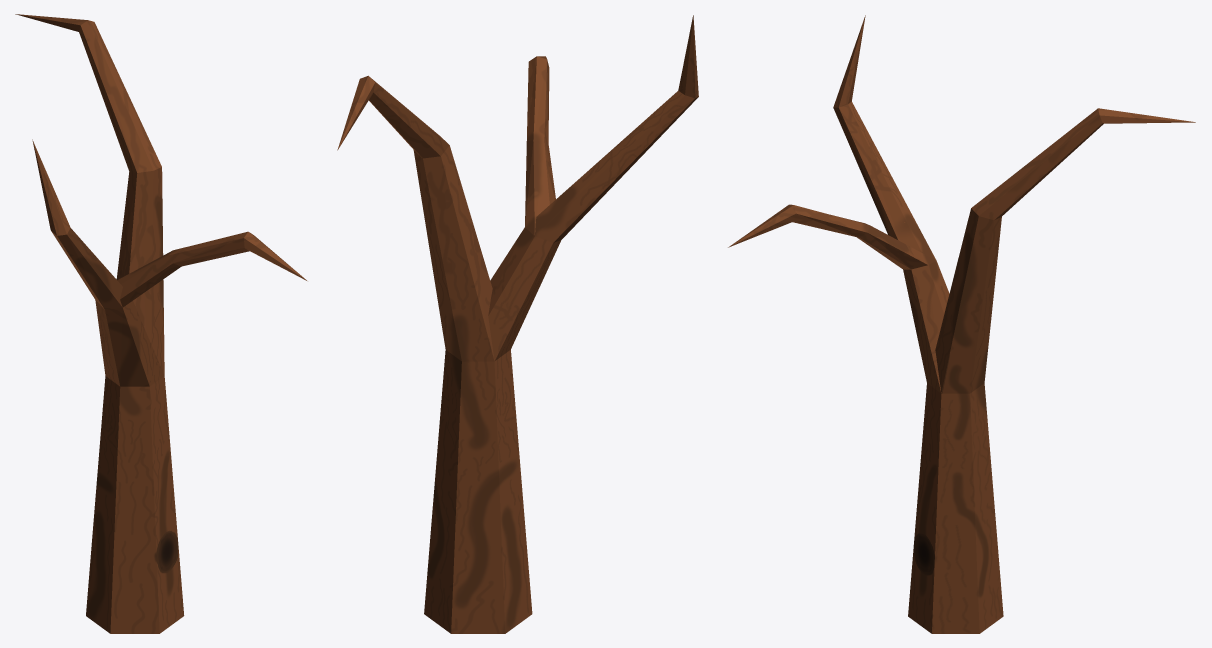
Rendered from tree.obj.
The picture shows the model from 3 angles, left to right: view 1: azimuth 30°, elevation 25°; view 2: azimuth 150°, elevation 25°; view 3: azimuth 270°, elevation 25°; orthographic projection. The views are drawn at different scales.
Parts seen in each view (by area): view 1: Plane.001; view 2: Plane.001; view 3: Plane.001.
Part boxes in pixels (x1,y1,x2,y2): Plane.001: [15, 14, 306, 633]; Plane.001: [337, 15, 698, 633]; Plane.001: [728, 15, 1195, 633].
Size of the model in its own units: 4.82 by 12.27 by 9.84.
1 material, 1 textured.
